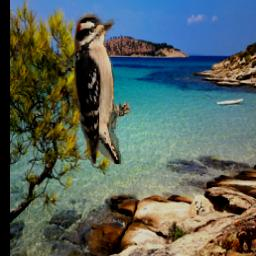Woodpecker: (74, 11, 132, 164)
